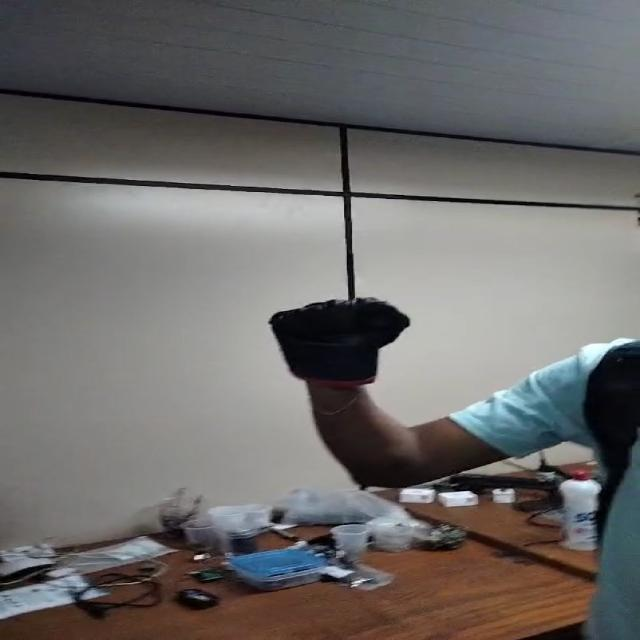Gloves: (268, 298, 409, 386)
